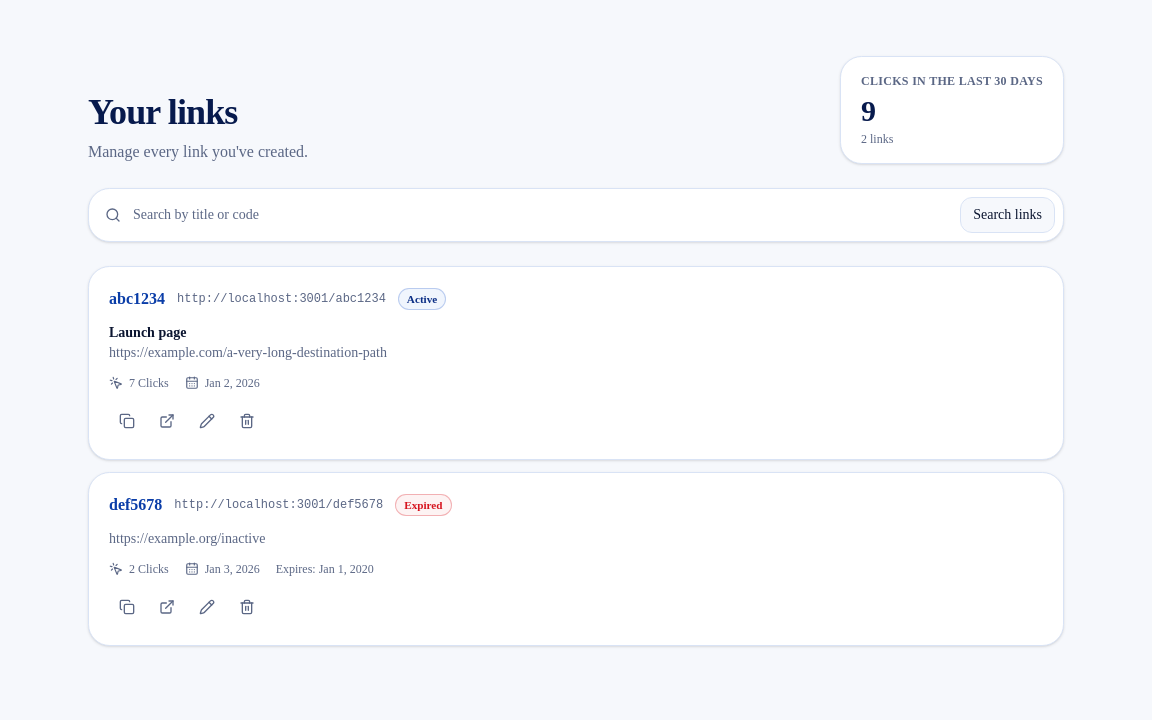
Test: LinksView › edits the destination optimistically
Click the button named "Edit: abc1234".
click(207, 421)  # box [189,403,225,439]
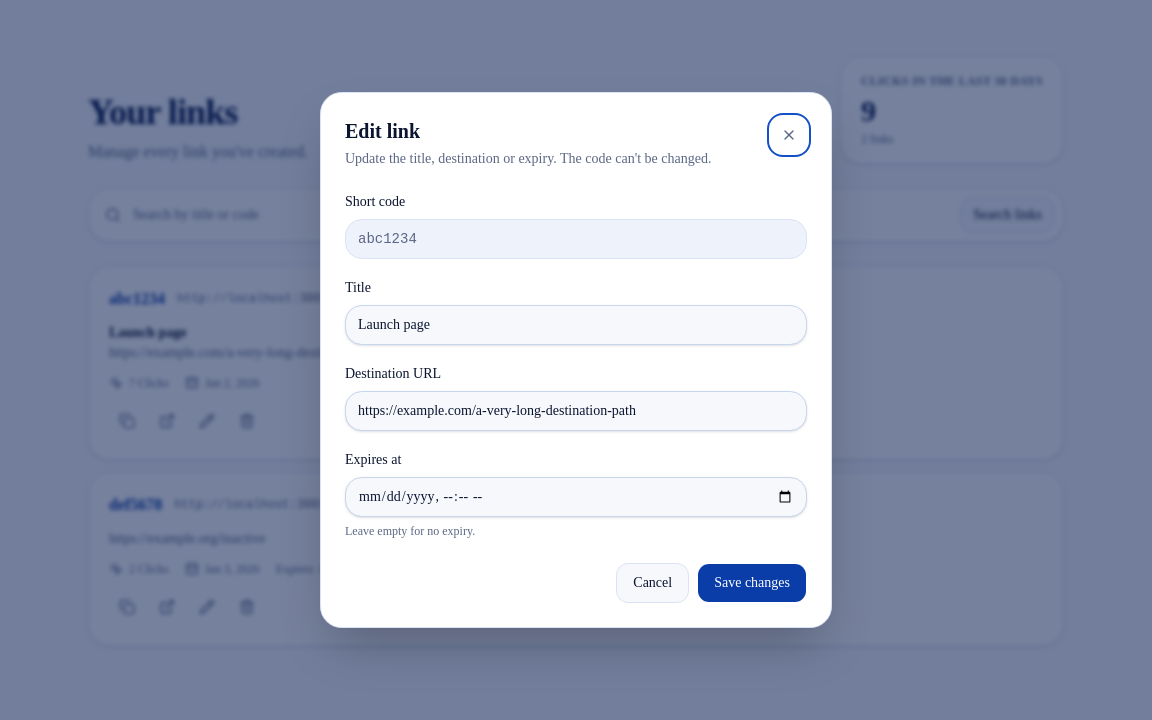
expect the field labelled "Short code" holds "abc1234": met, box [345,219,807,259]
Replace the text in the field labelled "Title" with "New title" at (576, 325), box [345,305,807,345]
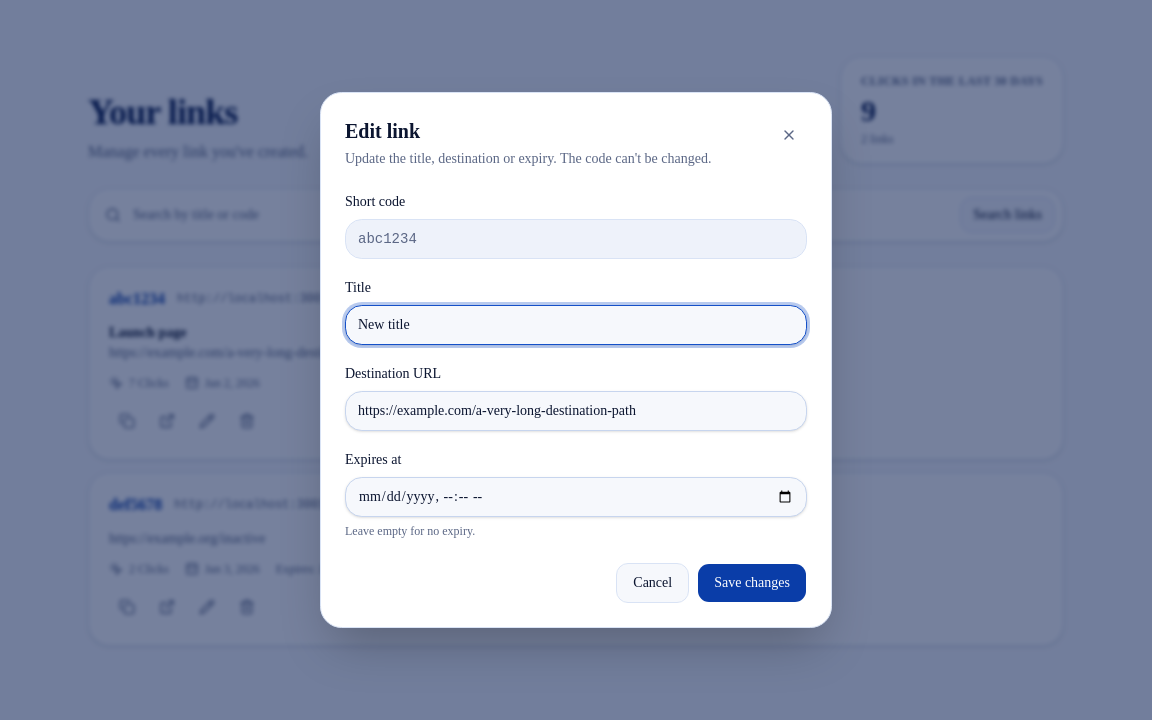
Replace the text in the field labelled "Destination URL" with "https://example.org/new-destination" at (576, 411), box [345,391,807,431]
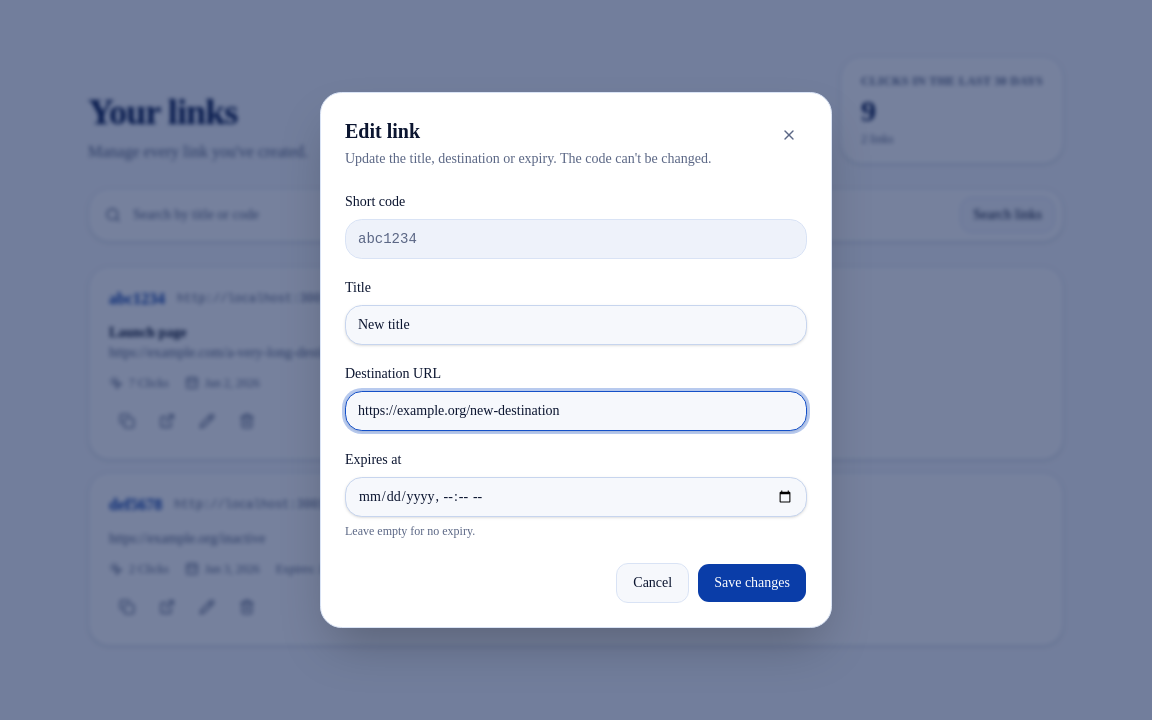
Type "2030-01-01T12:00" into the field labelled "Expires at".
click(576, 497); type("2030-01-01T12:00")  # box [345,477,807,517]
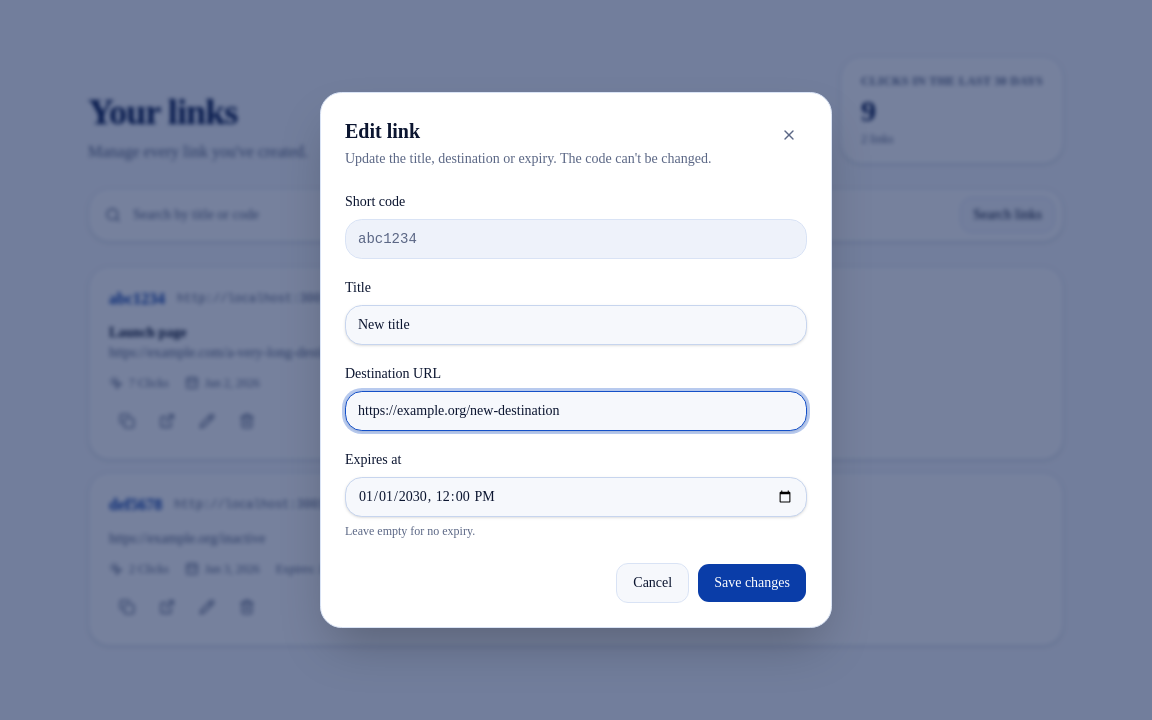
Click the button "Save changes".
click(752, 583)  # box [697,563,807,603]
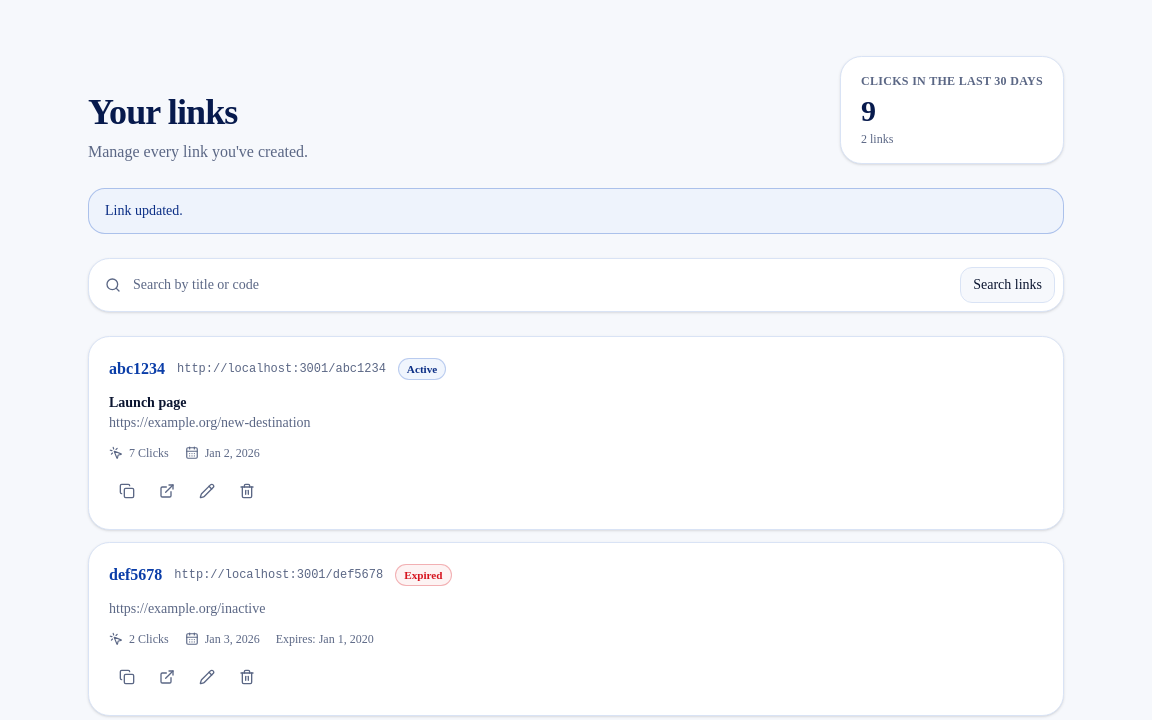
expect the text "https://example.org/new-destination" is shown: met, box [109,415,310,430]
expect the text "Link updated." is shown: met, box [88,188,1064,234]
